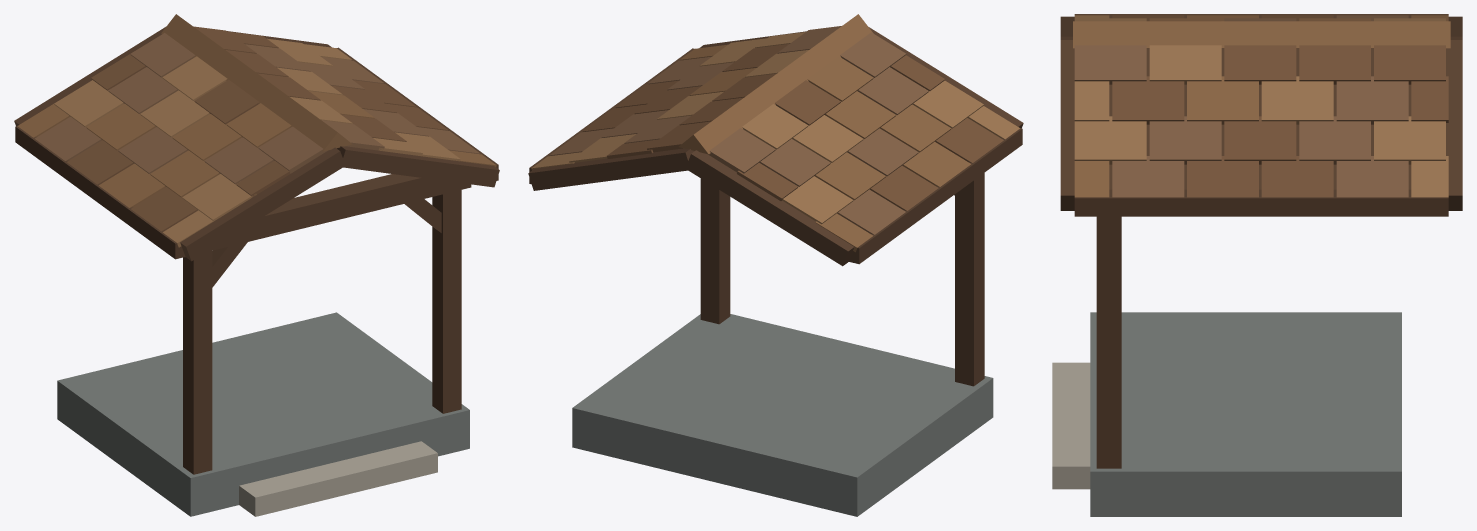
The model's file is ENV_Cottage_Porch_LOD0.glb.
3 renders of one model, left to right at view 1: azimuth 30°, elevation 25°; view 2: azimuth 150°, elevation 25°; view 3: azimuth 270°, elevation 25°, orthographic. The views are drawn at different scales.
Visible parts, largest first — view 1: ENV_Cottage_COMMON_LOD0_porch_roofTiles, ENV_Cottage_COMMON_LOD0_porch_stoneDark, ENV_Cottage_COMMON_LOD0_porch_woodDark, ENV_Cottage_COMMON_LOD0_porch_stone; view 2: ENV_Cottage_COMMON_LOD0_porch_stoneDark, ENV_Cottage_COMMON_LOD0_porch_roofTiles, ENV_Cottage_COMMON_LOD0_porch_woodDark; view 3: ENV_Cottage_COMMON_LOD0_porch_roofTiles, ENV_Cottage_COMMON_LOD0_porch_stoneDark, ENV_Cottage_COMMON_LOD0_porch_woodDark, ENV_Cottage_COMMON_LOD0_porch_stone.
Boxes of the visible parts, <box> form: ENV_Cottage_COMMON_LOD0_porch_roofTiles: <box>17,14,496,247</box>; ENV_Cottage_COMMON_LOD0_porch_stoneDark: <box>57,312,469,516</box>; ENV_Cottage_COMMON_LOD0_porch_woodDark: <box>14,27,499,474</box>; ENV_Cottage_COMMON_LOD0_porch_stone: <box>239,441,437,516</box>; ENV_Cottage_COMMON_LOD0_porch_stoneDark: <box>572,314,993,516</box>; ENV_Cottage_COMMON_LOD0_porch_roofTiles: <box>531,14,1020,252</box>; ENV_Cottage_COMMON_LOD0_porch_woodDark: <box>528,27,1023,386</box>; ENV_Cottage_COMMON_LOD0_porch_roofTiles: <box>1073,15,1450,197</box>; ENV_Cottage_COMMON_LOD0_porch_stoneDark: <box>1090,312,1401,516</box>; ENV_Cottage_COMMON_LOD0_porch_woodDark: <box>1060,14,1462,468</box>; ENV_Cottage_COMMON_LOD0_porch_stone: <box>1052,362,1090,489</box>.
Bounding box in the file's own units: 2.8 × 2.94 × 2.63.
